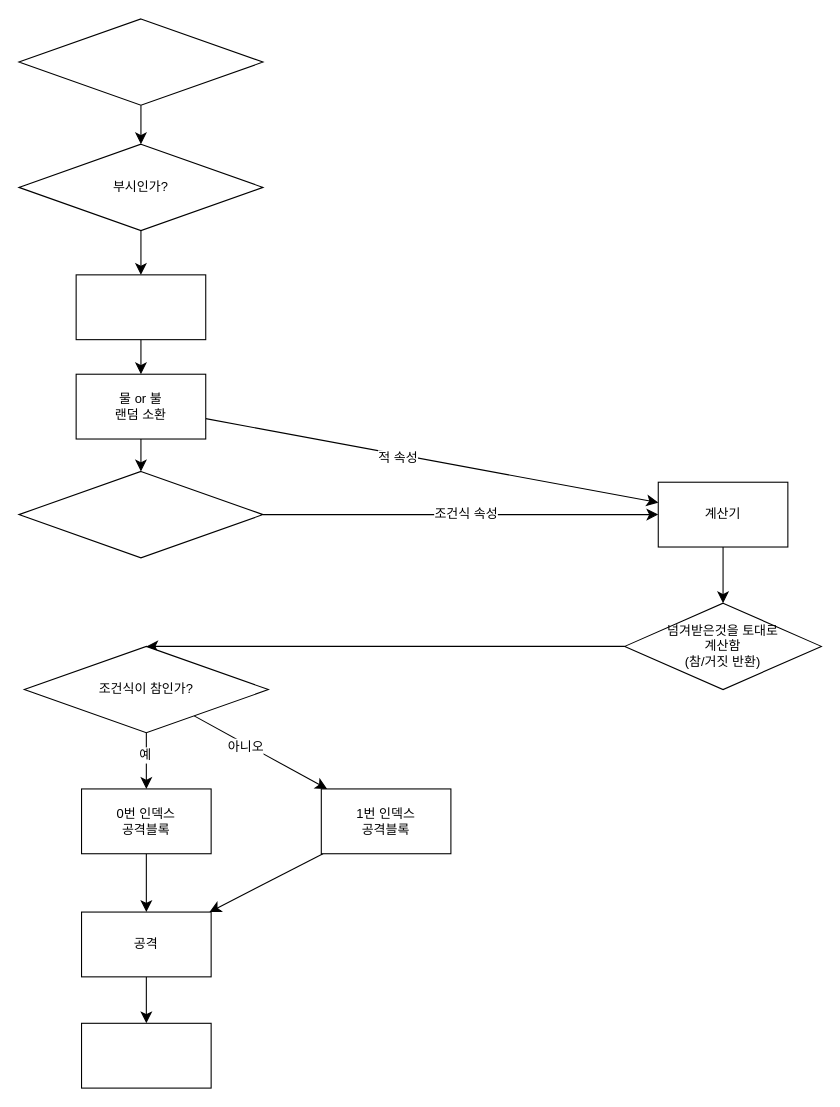
Some shapes in this 840 by 1107 pixel diagram are drawn without their labels. Each missing label, with the box of its shape:
if문 조건의 속성은?: (18, 470, 263, 558)
if인가?: (18, 18, 263, 105)
기존 프로세스 대로: (80, 1022, 211, 1088)
물, 불 부시 (풀 x): (75, 274, 206, 340)
